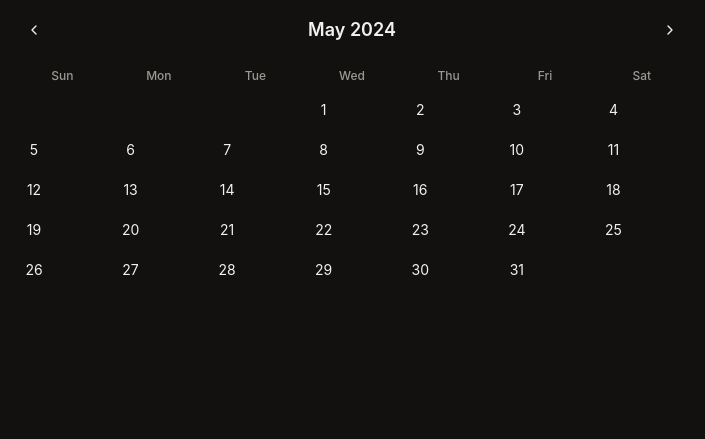
MonthCalendar › shows 'Nothing on this day' message when day has no events
The width and height of the screenshot is (705, 439).
What coordinates should you click on to do the following:
click the button "15"
I would click on:
 (352, 190)
Its box is [306,172,398,208].
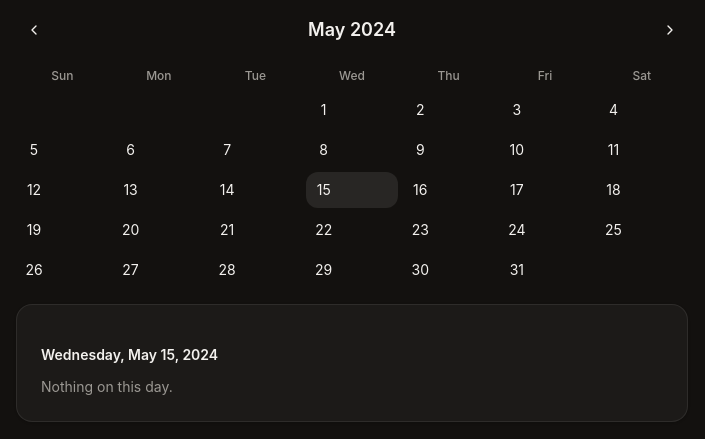
Check: the text "Nothing on this day." is shown, box [41,378,173,395]
